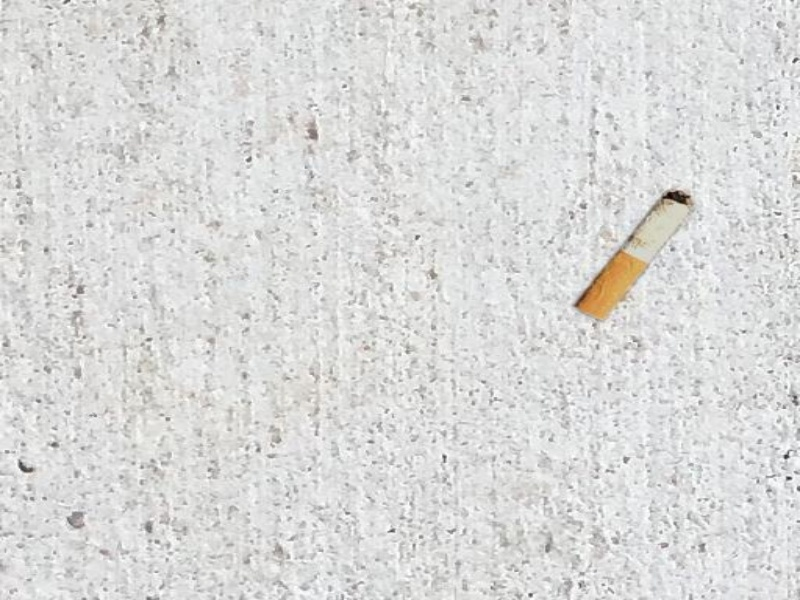cig: (558, 177, 705, 324)
